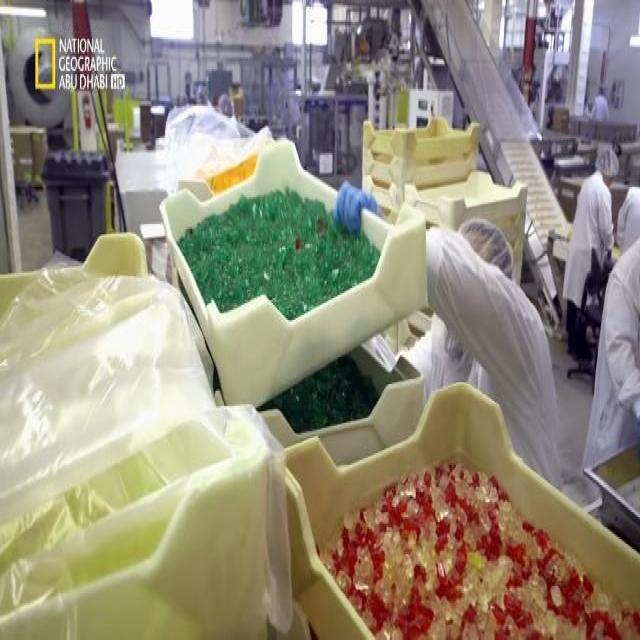gloved_hand: (329, 168, 387, 248)
